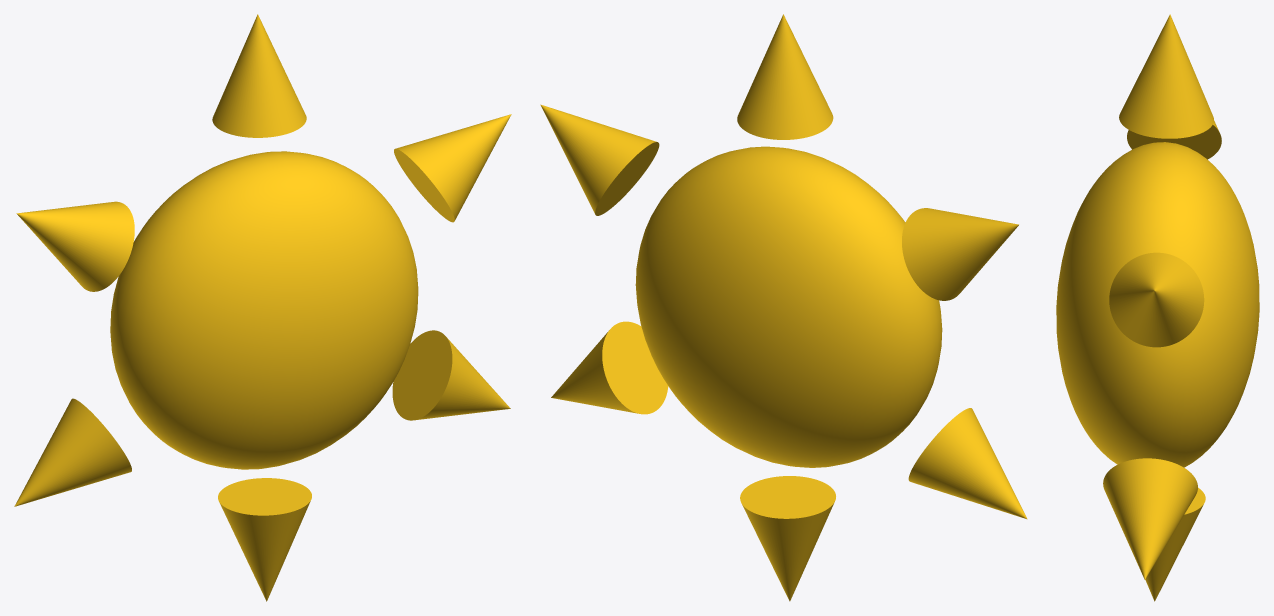
File: Sun GLB.glb
3 views of the same model, side by side, from view 1: azimuth 30°, elevation 25°; view 2: azimuth 150°, elevation 25°; view 3: azimuth 270°, elevation 25° (orthographic).
Parts seen in each view (by area): view 1: mesh_id27, mesh_id94, mesh_id95, mesh_id29, mesh_id53, mesh_id99, mesh_id100; view 2: mesh_id27, mesh_id94, mesh_id29, mesh_id53, mesh_id95, mesh_id100, mesh_id99; view 3: mesh_id27, mesh_id100, mesh_id95, mesh_id29, mesh_id53, mesh_id94.
Boxes of the visible parts, x1=… form: mesh_id27: x1=110, y1=151, x2=418, y2=469; mesh_id94: x1=16, y1=201, x2=134, y2=291; mesh_id95: x1=392, y1=330, x2=510, y2=420; mesh_id29: x1=212, y1=14, x2=306, y2=137; mesh_id53: x1=218, y1=478, x2=311, y2=601; mesh_id99: x1=14, y1=398, x2=131, y2=506; mesh_id100: x1=394, y1=114, x2=511, y2=222; mesh_id27: x1=635, y1=146, x2=942, y2=467; mesh_id94: x1=902, y1=208, x2=1018, y2=300; mesh_id29: x1=737, y1=14, x2=833, y2=139; mesh_id53: x1=740, y1=476, x2=835, y2=601; mesh_id95: x1=551, y1=321, x2=668, y2=414; mesh_id100: x1=540, y1=104, x2=659, y2=215; mesh_id99: x1=908, y1=408, x2=1027, y2=519; mesh_id27: x1=1056, y1=142, x2=1259, y2=467; mesh_id100: x1=1109, y1=252, x2=1204, y2=347; mesh_id95: x1=1103, y1=458, x2=1197, y2=579; mesh_id29: x1=1119, y1=14, x2=1213, y2=138; mesh_id53: x1=1145, y1=487, x2=1205, y2=601; mesh_id94: x1=1127, y1=120, x2=1221, y2=159.
Bounding box in the file's own units: 0.3061 × 0.3494 × 0.1095.
2 materials, 2 textured.
